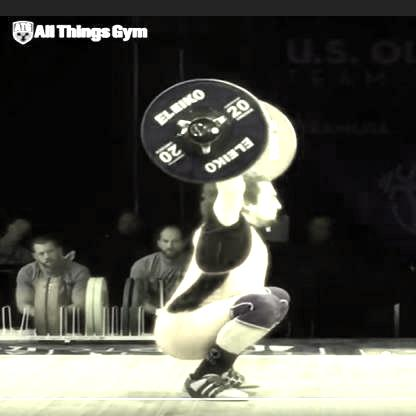Barbell: (187, 122, 211, 140)
